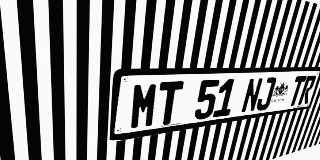1: (213, 79, 238, 118)
5: (194, 80, 220, 120)
J: (255, 77, 277, 111)
M: (129, 82, 159, 130)
N: (240, 78, 263, 113)
R: (298, 75, 317, 105)
T: (155, 81, 184, 126), (287, 76, 307, 106)
